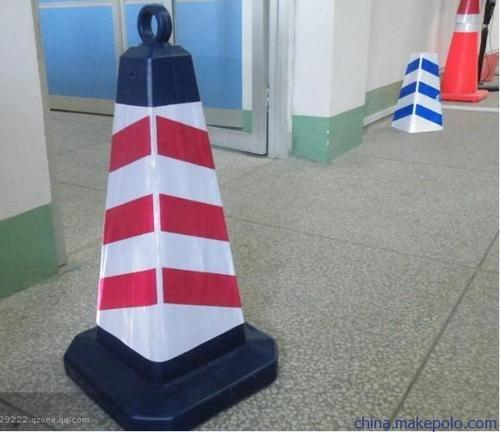cone_barrel: (72, 6, 275, 401), (439, 1, 486, 104)
